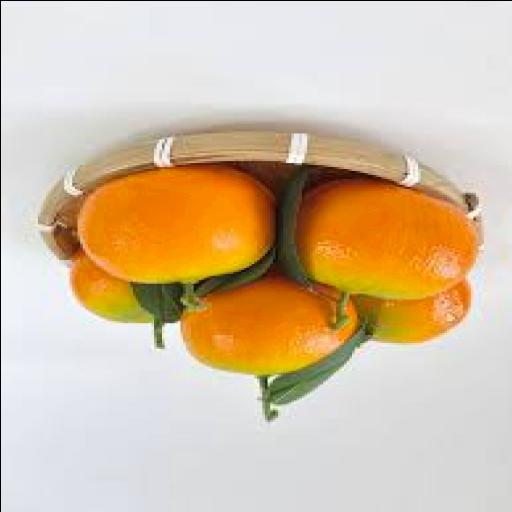orange: (78, 165, 275, 282), (297, 178, 478, 298), (181, 273, 357, 375), (355, 279, 470, 341), (70, 250, 151, 322)
